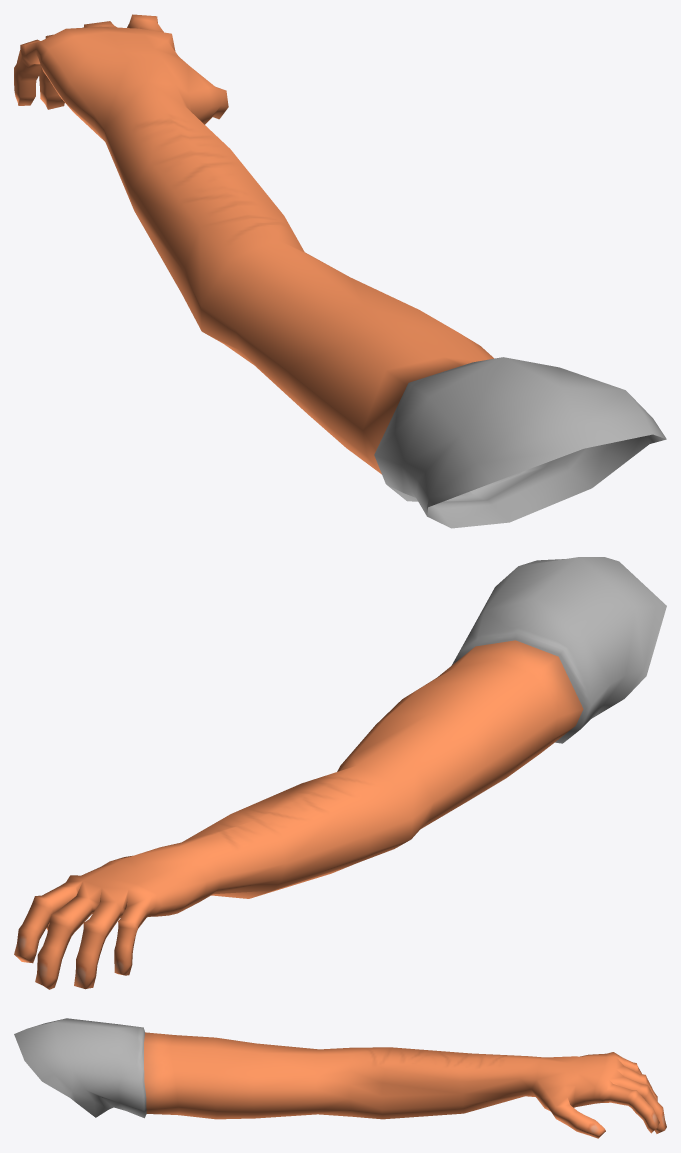
File: arm.FBX
3 renders of one model, top to bottom at view 1: azimuth 30°, elevation 25°; view 2: azimuth 150°, elevation 25°; view 3: azimuth 270°, elevation 25°, orthographic. The views are drawn at different scales.
Parts seen in each view (by area): view 1: arm; view 2: arm; view 3: arm.
Boxes of the visible parts, x1,y1,x2,y2 form: arm: (14, 14, 666, 528); arm: (14, 557, 666, 989); arm: (14, 1018, 666, 1138).
Bounding box in the file's own units: 37.99 × 23.02 × 148.
